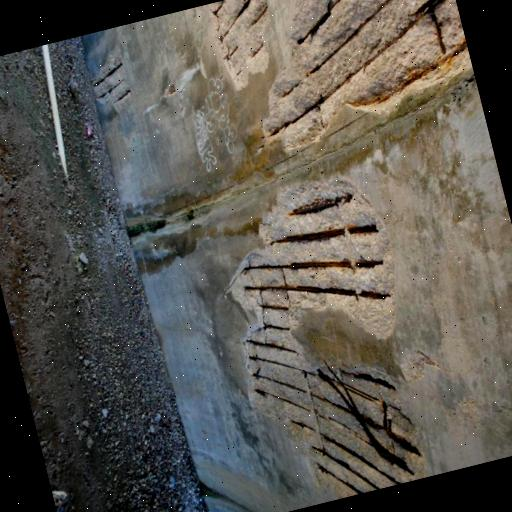spalling: (229, 178, 424, 492), (263, 0, 470, 153), (206, 0, 270, 98), (86, 49, 140, 117)
